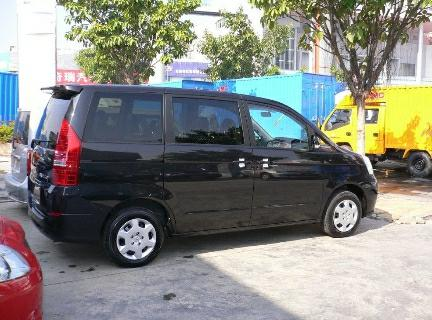car: (26, 72, 379, 269)
